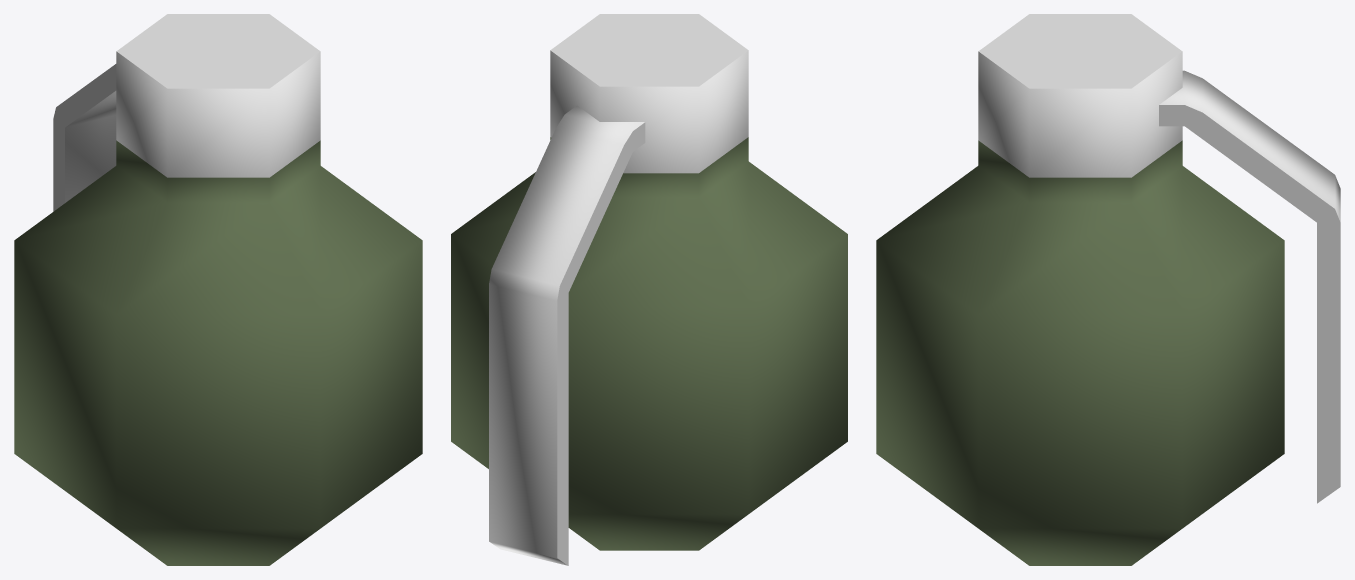
File: weapon_grenade.fbx
3 renders of one model, left to right at view 1: azimuth 30°, elevation 25°; view 2: azimuth 150°, elevation 25°; view 3: azimuth 270°, elevation 25°, orthographic. The views are drawn at different scales.
Parts seen in each view (by area): view 1: Sphere; view 2: Sphere; view 3: Sphere.
Boxes of the visible parts, left/top/right/bottom form: Sphere: left=14, top=14, right=422, bottom=565; Sphere: left=451, top=14, right=847, bottom=565; Sphere: left=876, top=14, right=1340, bottom=565.
Bounding box in the file's own units: 30 × 44.7 × 39.4.
